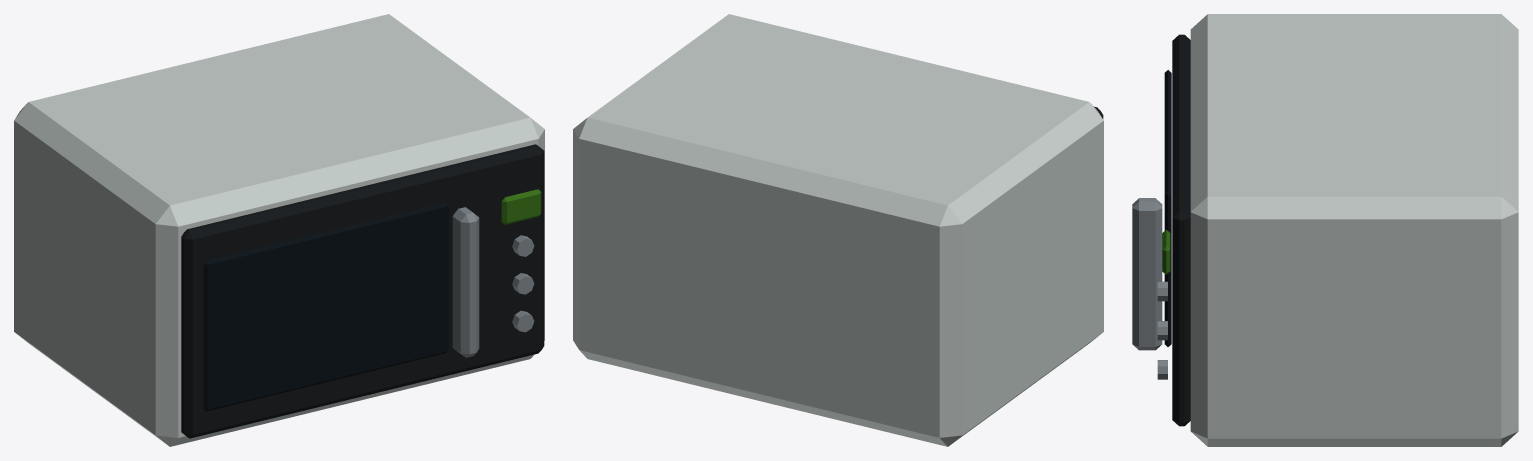
File: Microwave.fbx
The picture shows the model from 3 angles, left to right: view 1: azimuth 30°, elevation 25°; view 2: azimuth 150°, elevation 25°; view 3: azimuth 270°, elevation 25°; orthographic projection. The views are drawn at different scales.
Visible parts, largest first — view 1: Microwave; view 2: Microwave; view 3: Microwave.
Part boxes in pixels (box(x1,y1,x2,y2)): Microwave: box(14, 14, 544, 446); Microwave: box(573, 14, 1103, 446); Microwave: box(1132, 14, 1518, 446).
Size of the model in its own units: 54 by 32 by 44.75.
Materials: 1 (1 with a texture image).
